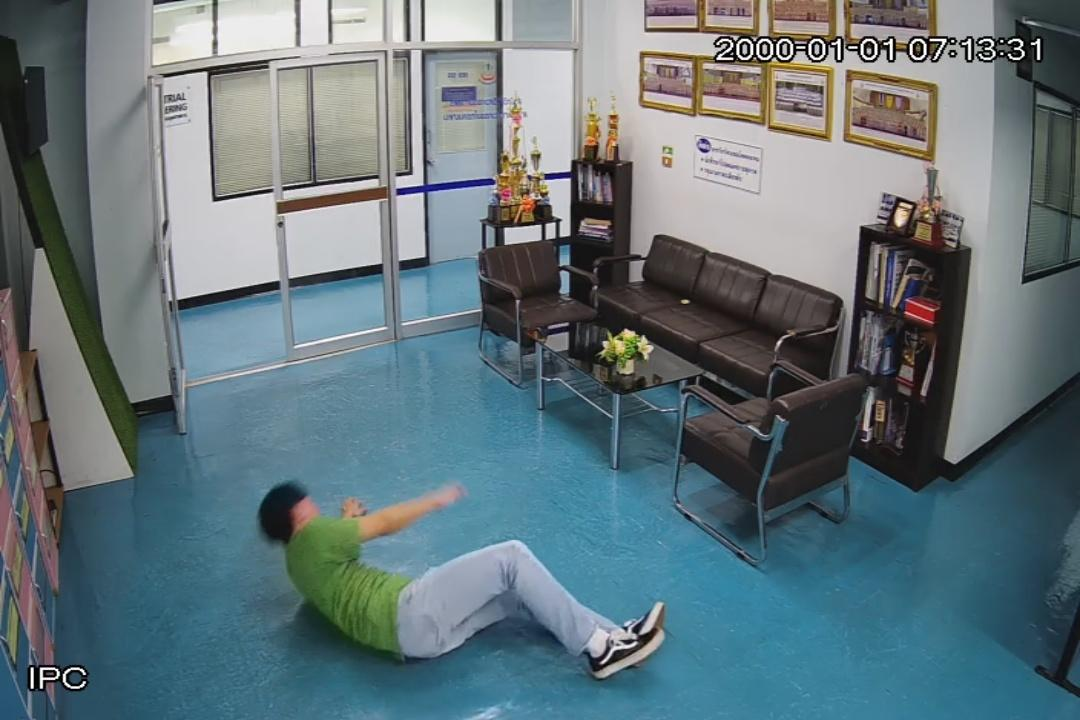fall: (260, 481, 669, 684)
